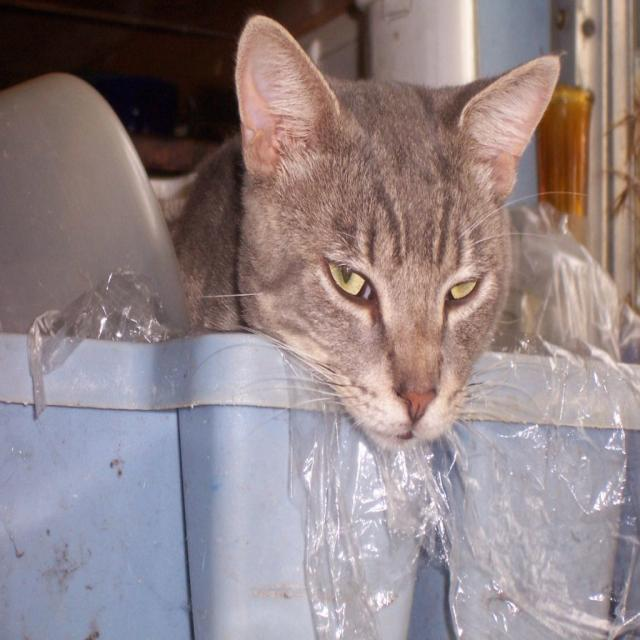Cat: (151, 11, 595, 446)
